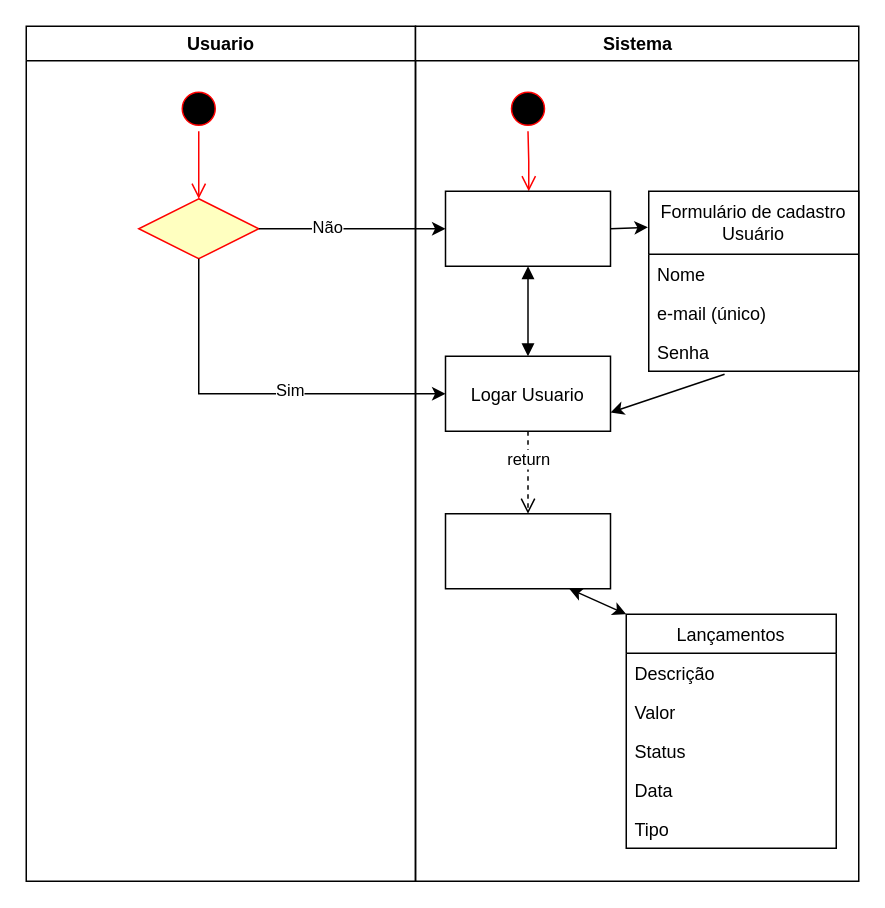
The diagram is 885 pixels wide and 908 high, and some of its shapes have lost their labels. The shapes that lost their labels are listed below. From the top down, each one's centre as x and y in pixels, then its label:
(x=198, y=228): Login?
(x=527, y=228): Cadastra Usuario
(x=527, y=550): Mostrar Lançamentos
